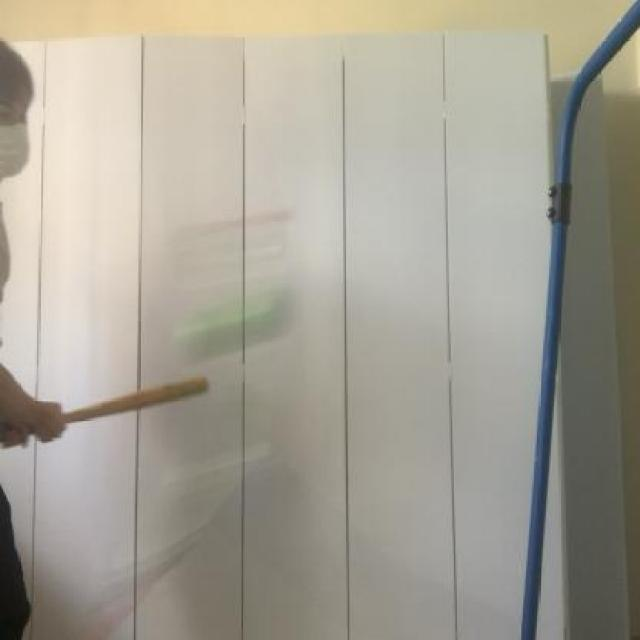baseball: (178, 265, 304, 360)
